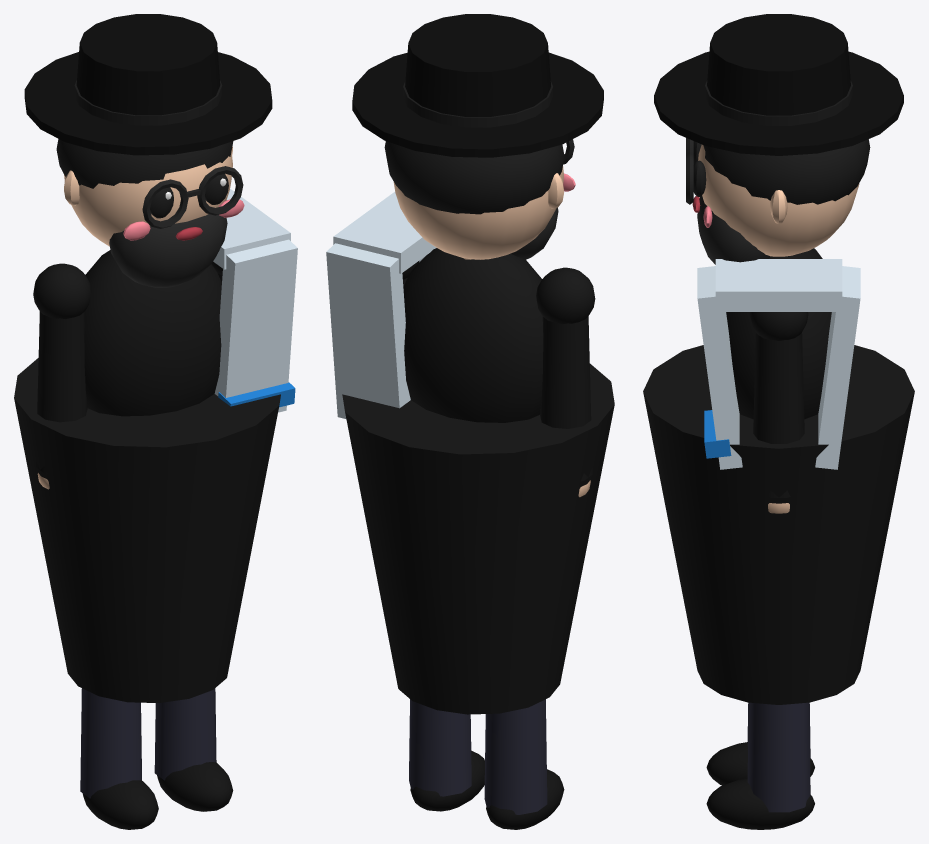
Rendered from shabbos_bekishe.glb.
3 views of the same model, side by side, from view 1: azimuth 30°, elevation 25°; view 2: azimuth 150°, elevation 25°; view 3: azimuth 270°, elevation 25° (orthographic).
Visible parts, largest first — view 1: Body.002, ShabbosBekisheExtra, Leg_R.002, Arm_R.002, Leg_L.002; view 2: Body.002, ShabbosBekisheExtra, Arm_R.002, Leg_R.002, Leg_L.002; view 3: Body.002, ShabbosBekisheExtra, Leg_L.002, Arm_L.002, Leg_R.002.
Part boxes in pixels (left/top/right/bottom): Body.002: left=14, top=14, right=280, bottom=702; ShabbosBekisheExtra: left=213, top=188, right=297, bottom=412; Leg_R.002: left=80, top=688, right=158, bottom=829; Arm_R.002: left=33, top=263, right=91, bottom=489; Leg_L.002: left=154, top=688, right=233, bottom=811; Body.002: left=342, top=14, right=614, bottom=714; ShabbosBekisheExtra: left=326, top=191, right=436, bottom=418; Arm_R.002: left=536, top=267, right=595, bottom=497; Leg_R.002: left=484, top=699, right=564, bottom=829; Leg_L.002: left=409, top=699, right=484, bottom=811; Body.002: left=643, top=14, right=914, bottom=704; ShabbosBekisheExtra: left=697, top=259, right=860, bottom=469; Leg_L.002: left=706, top=702, right=814, bottom=829; Arm_L.002: left=749, top=312, right=808, bottom=513; Leg_R.002: left=706, top=703, right=814, bottom=785.
Bounding box in the file's own units: 0.6296 × 1.96 × 0.6296.
